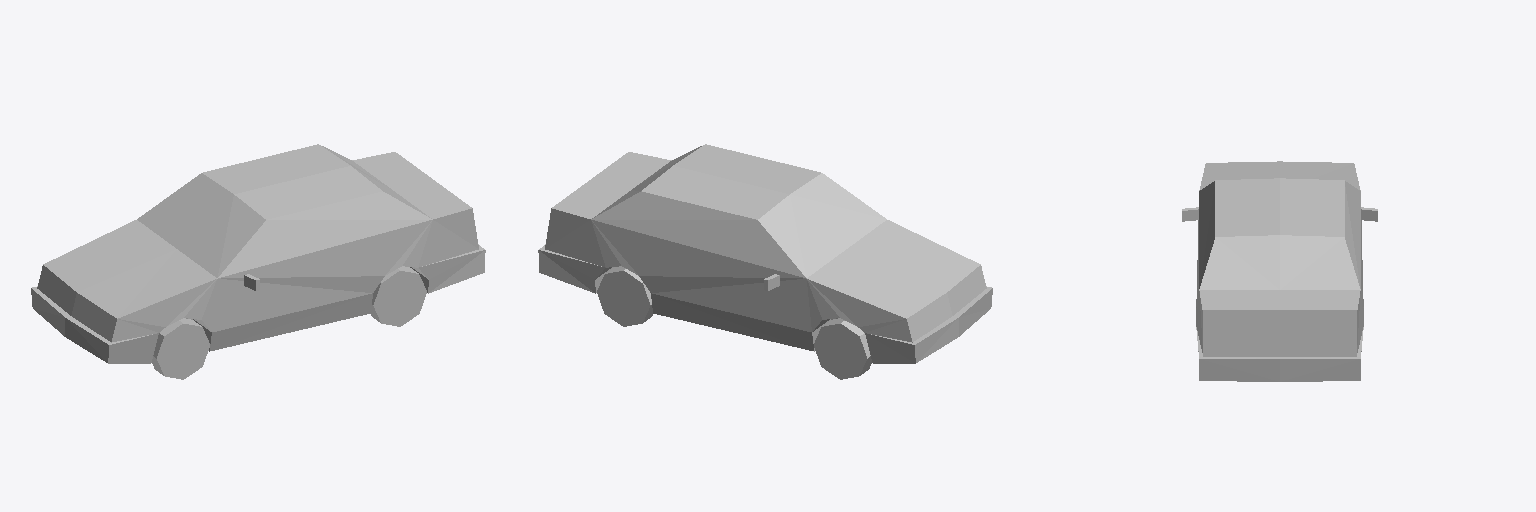
Rendered from Car2_o2.obj.
The picture shows the model from 3 angles: view 1: azimuth 30°, elevation 25°; view 2: azimuth 150°, elevation 25°; view 3: azimuth 270°, elevation 25°; orthographic projection.
Parts seen in each view (by area): view 1: Car2; view 2: Car2; view 3: Car2.
Part boxes in pixels (left/top/right/bottom): Car2: left=31, top=144, right=485, bottom=379; Car2: left=538, top=144, right=992, bottom=379; Car2: left=1182, top=161, right=1377, bottom=381.
Size of the model in its own units: 3.56 by 1.2 by 1.58.